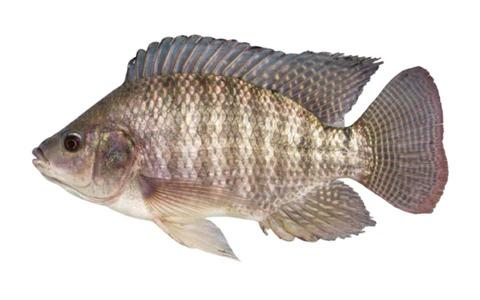Tilapia: (35, 32, 447, 270)
